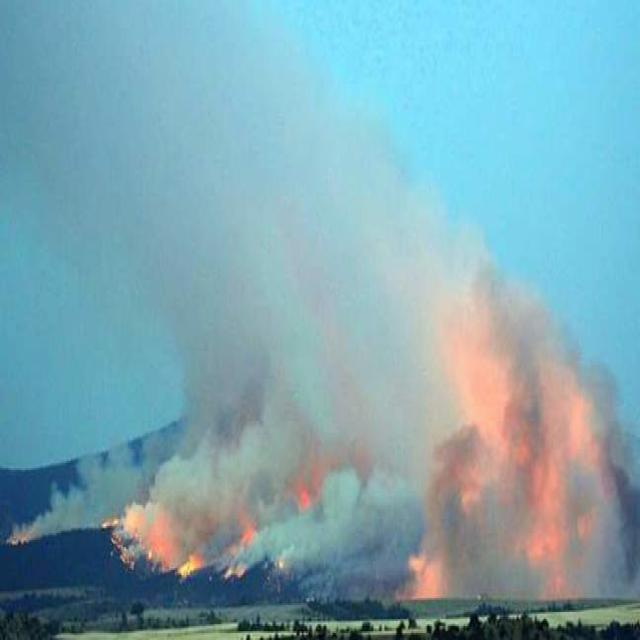Fire: (170, 548, 203, 584), (218, 547, 252, 579), (296, 482, 324, 507), (240, 517, 259, 546)
Smoke: (152, 74, 499, 591), (412, 280, 634, 599), (23, 446, 152, 544)
